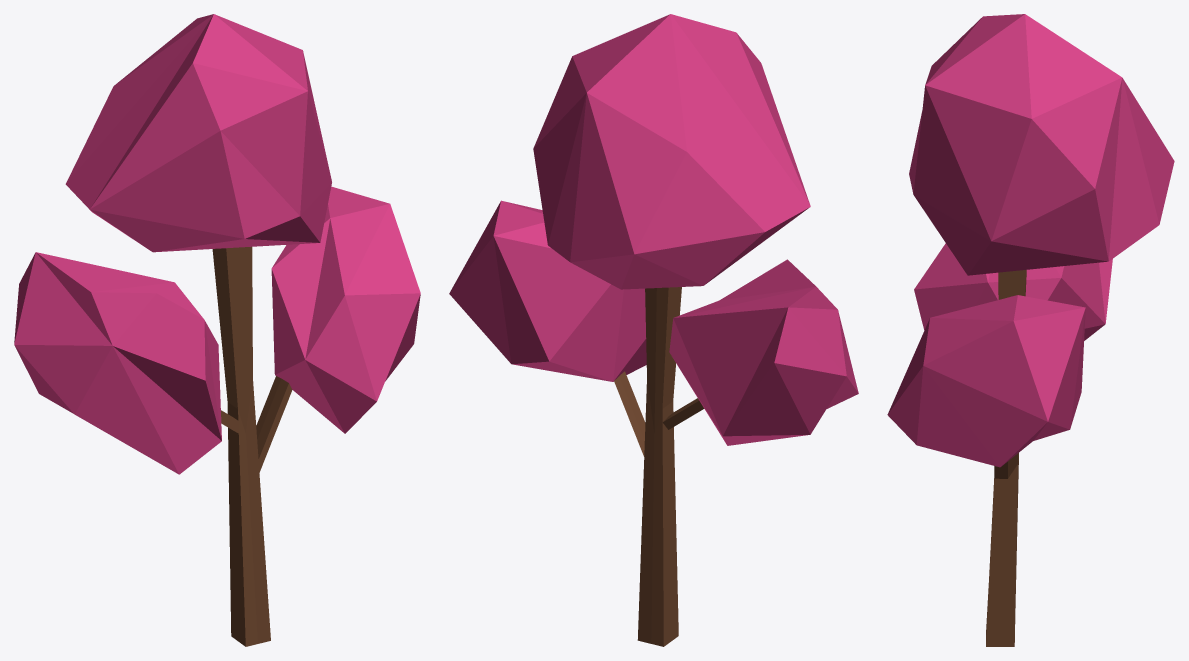
File: Tree_22_Pink.fbx
3 views of the same model, side by side, from view 1: azimuth 30°, elevation 25°; view 2: azimuth 150°, elevation 25°; view 3: azimuth 270°, elevation 25° (orthographic). The views are drawn at different scales.
Parts seen in each view (by area): view 1: Tree_22_Pink_Part_1, Tree_22_Pink_Part_2; view 2: Tree_22_Pink_Part_1, Tree_22_Pink_Part_2; view 3: Tree_22_Pink_Part_1, Tree_22_Pink_Part_2.
Part boxes in pixels (left/top/right/bottom): Tree_22_Pink_Part_1: left=14, top=14, right=420, bottom=474; Tree_22_Pink_Part_2: left=212, top=246, right=292, bottom=646; Tree_22_Pink_Part_1: left=449, top=14, right=858, bottom=445; Tree_22_Pink_Part_2: left=614, top=287, right=704, bottom=646; Tree_22_Pink_Part_1: left=887, top=14, right=1174, bottom=467; Tree_22_Pink_Part_2: left=986, top=270, right=1026, bottom=646.
Bounding box in the file's own units: 509 × 777 × 329.
